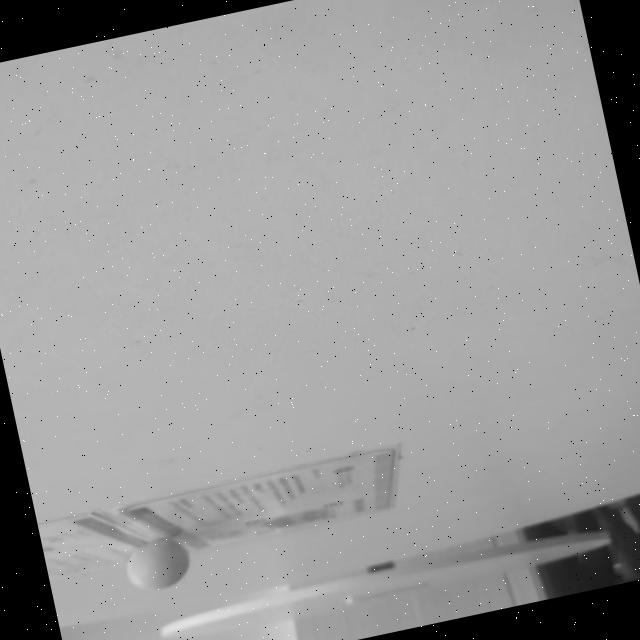ping-pong-ball: (119, 530, 194, 596)
